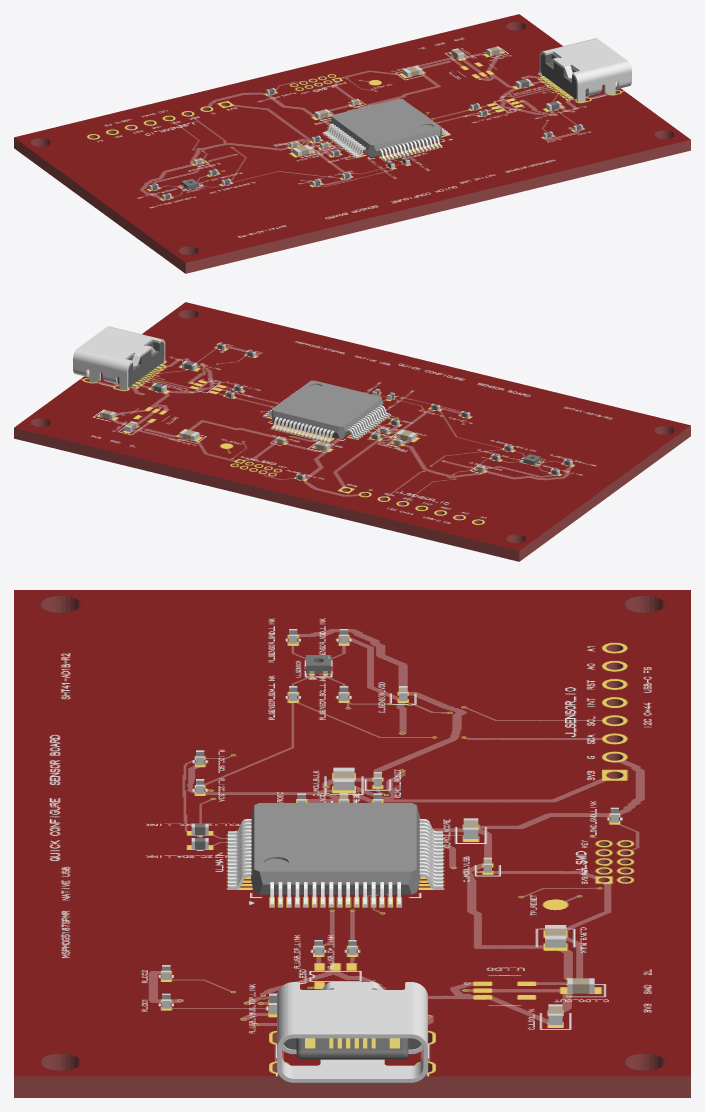
The picture shows the model from 3 angles, top to bottom: view 1: azimuth 30°, elevation 25°; view 2: azimuth 150°, elevation 25°; view 3: azimuth 270°, elevation 25°; orthographic projection. The views are drawn at different scales.
Visible parts, largest first — view 1: Box0, U_MAIN, J_USB; view 2: Box0, U_MAIN, J_USB; view 3: Box0, U_MAIN, J_USB.
Boxes of the visible parts, left/top/right/bottom form: Box0: left=14, top=14, right=690, bottom=273; U_MAIN: left=322, top=98, right=450, bottom=161; J_USB: left=539, top=38, right=631, bottom=102; Box0: left=14, top=302, right=690, bottom=561; U_MAIN: left=263, top=380, right=390, bottom=442; J_USB: left=73, top=326, right=165, bottom=390; Box0: left=14, top=590, right=690, bottom=1097; U_MAIN: left=228, top=803, right=442, bottom=907; J_USB: left=277, top=982, right=427, bottom=1082.
Bounding box in the file's own units: 69.04 × 4.65 × 40.
16 materials, 2 textured.
